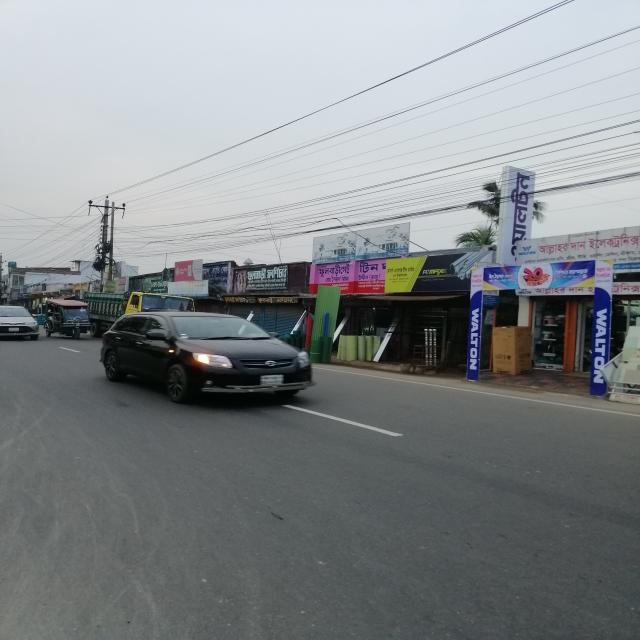Car: (83, 305, 338, 407), (1, 300, 44, 345)
